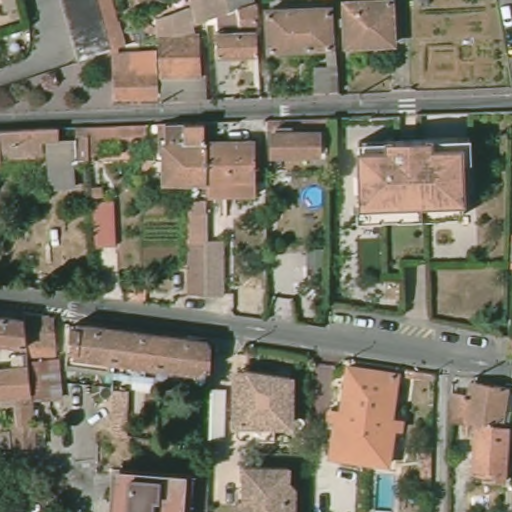pool: (368, 468, 404, 512), (297, 181, 327, 207)
